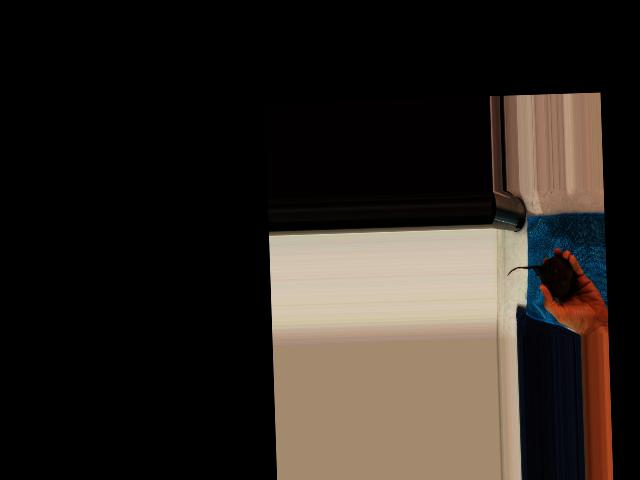beet: (507, 254, 578, 299)
